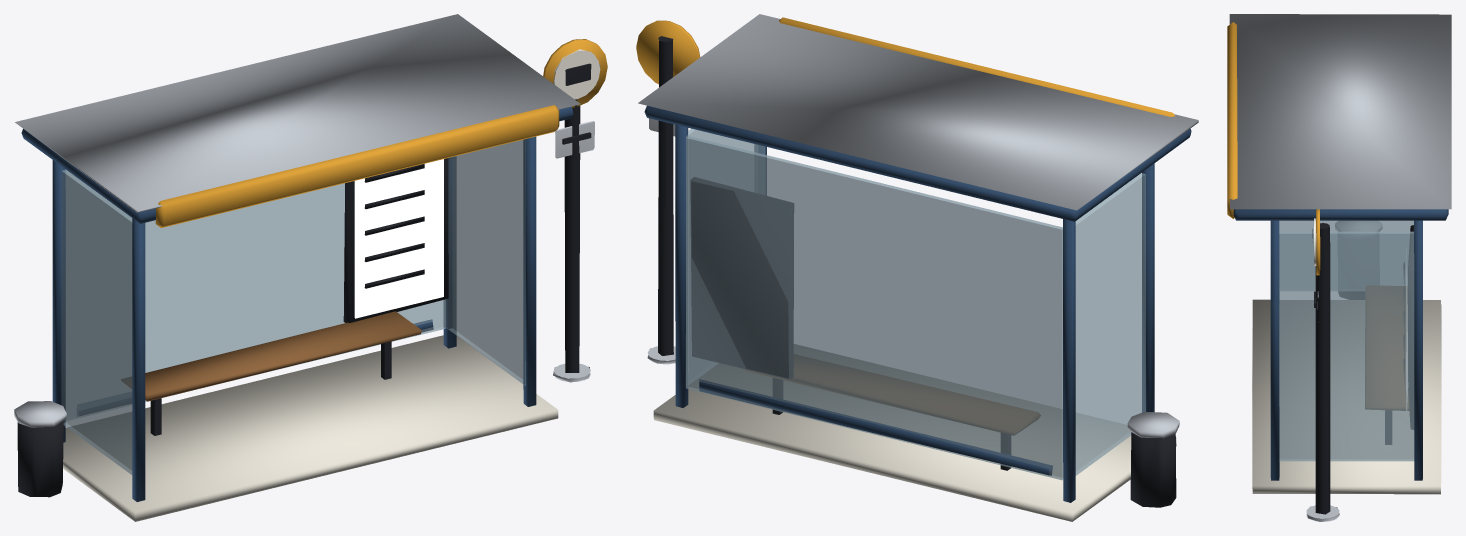
The model's file is lod_bus_stop.glb.
The picture shows the model from 3 angles, left to right: view 1: azimuth 30°, elevation 25°; view 2: azimuth 150°, elevation 25°; view 3: azimuth 270°, elevation 25°; orthographic projection. The views are drawn at different scales.
Parts seen in each view (by area): view 1: bus_stop; view 2: bus_stop; view 3: bus_stop.
Part boxes in pixels (bbox=[...]): bus_stop: bbox=[14, 14, 607, 521]; bus_stop: bbox=[636, 14, 1198, 521]; bus_stop: bbox=[1227, 14, 1451, 521].
Size of the model in its own units: 4.92 by 2.83 by 1.88.
